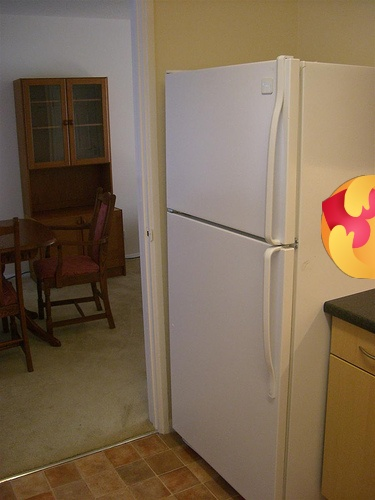care: (321, 175, 375, 279)
